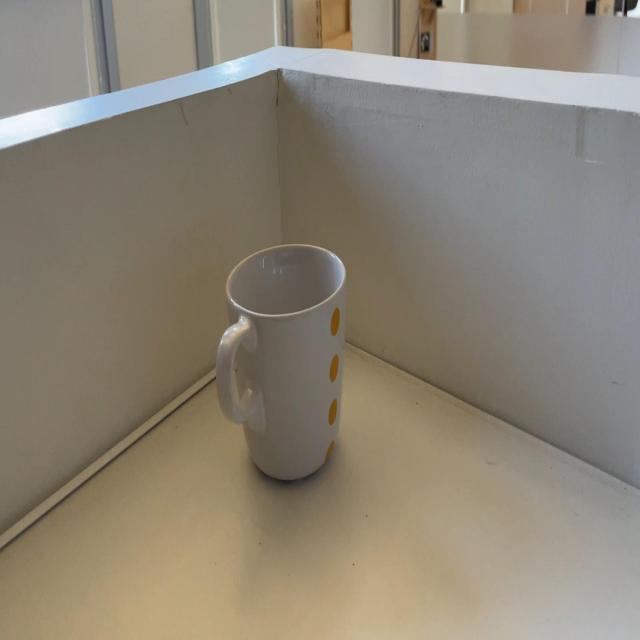cup: (216, 240, 347, 482)
